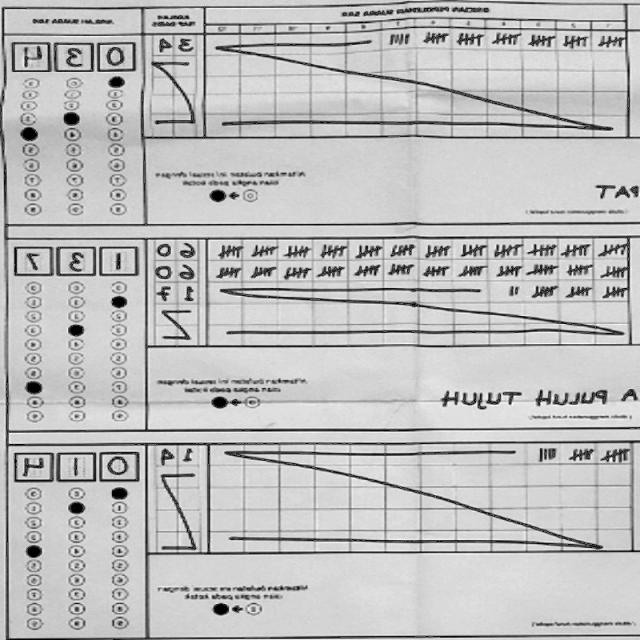Suara: (12, 240, 142, 280), (11, 37, 140, 77), (15, 447, 144, 487)
